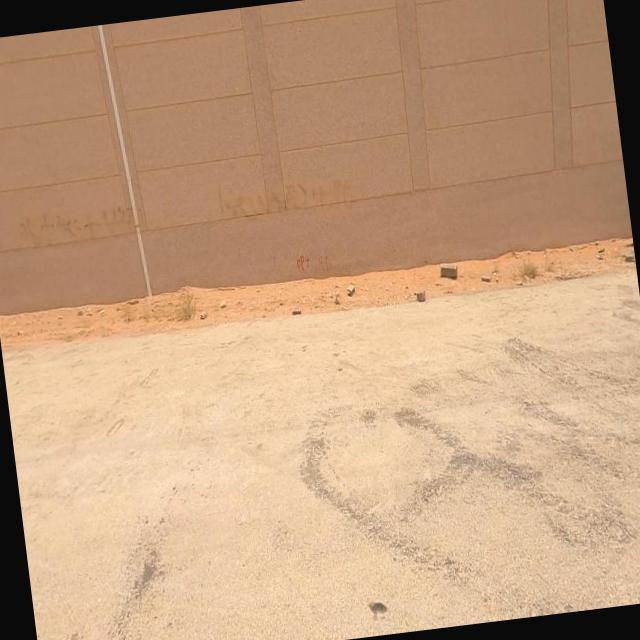debris: (129, 118, 449, 290), (0, 154, 198, 288)
